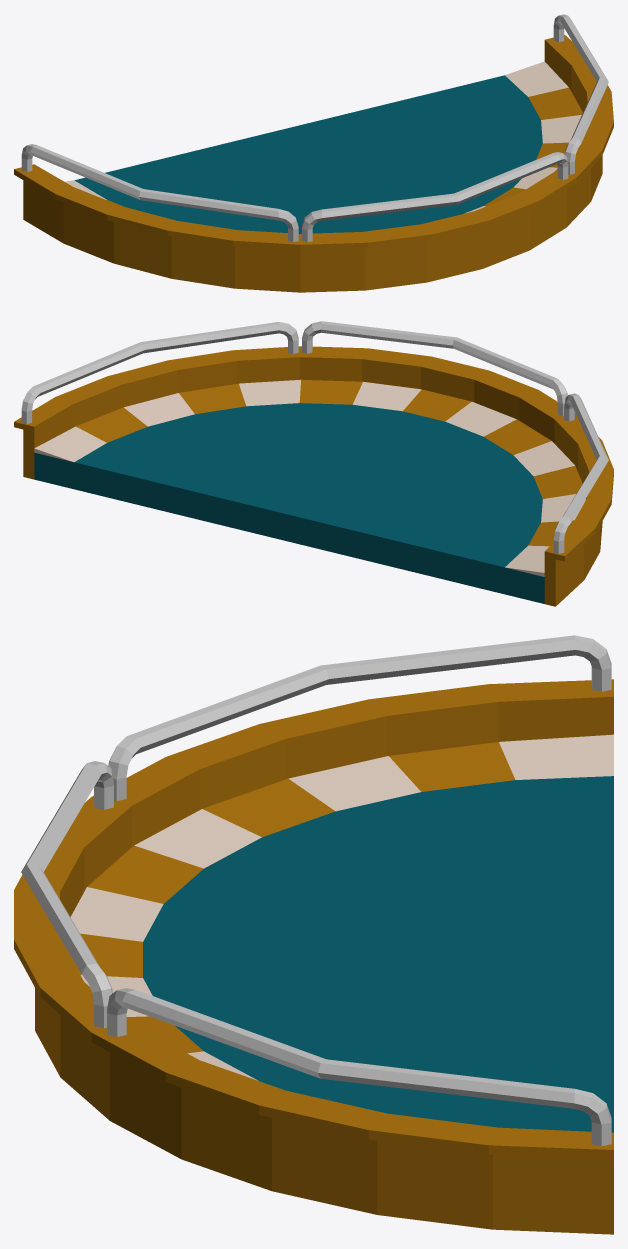
File: cap_end.FBX
3 renders of one model, top to bottom at view 1: azimuth 30°, elevation 25°; view 2: azimuth 150°, elevation 25°; view 3: azimuth 270°, elevation 25°, orthographic. The views are drawn at different scales.
Visible parts, largest first — view 1: wall, cap_end, curbs; view 2: cap_end, wall, curbs; view 3: wall, cap_end, curbs.
Boxes of the visible parts, x1,y1,x2,y2 form: wall: [14, 14, 613, 292]; cap_end: [74, 75, 542, 233]; curbs: [65, 61, 582, 213]; cap_end: [34, 403, 544, 603]; wall: [14, 321, 613, 606]; curbs: [34, 379, 586, 576]; wall: [14, 635, 613, 1234]; cap_end: [143, 776, 613, 1132]; curbs: [65, 734, 613, 1080].
Size of what is drawn, in the model's own units: 207 by 29.31 by 112.
